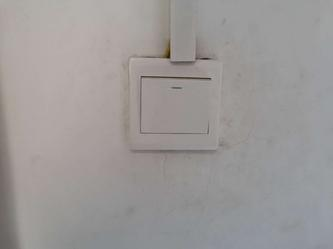switch: (138, 70, 213, 142)
